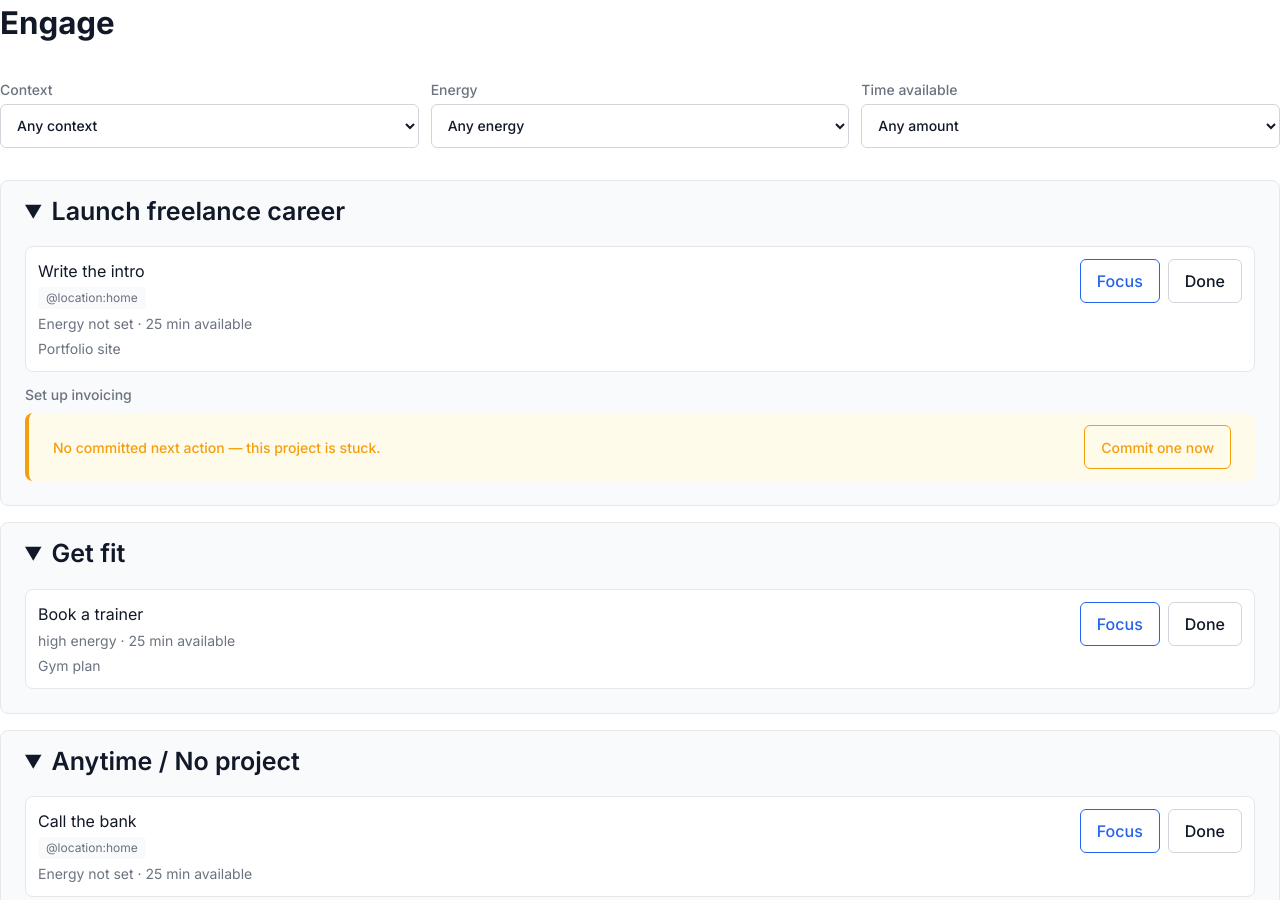
it: EngageBoard › keeps a long next-action list scrollable with its dismissal control reachable
Click the button named "Mark \"Write the intro\" done" at (1205, 281), box [1168,259,1242,303]
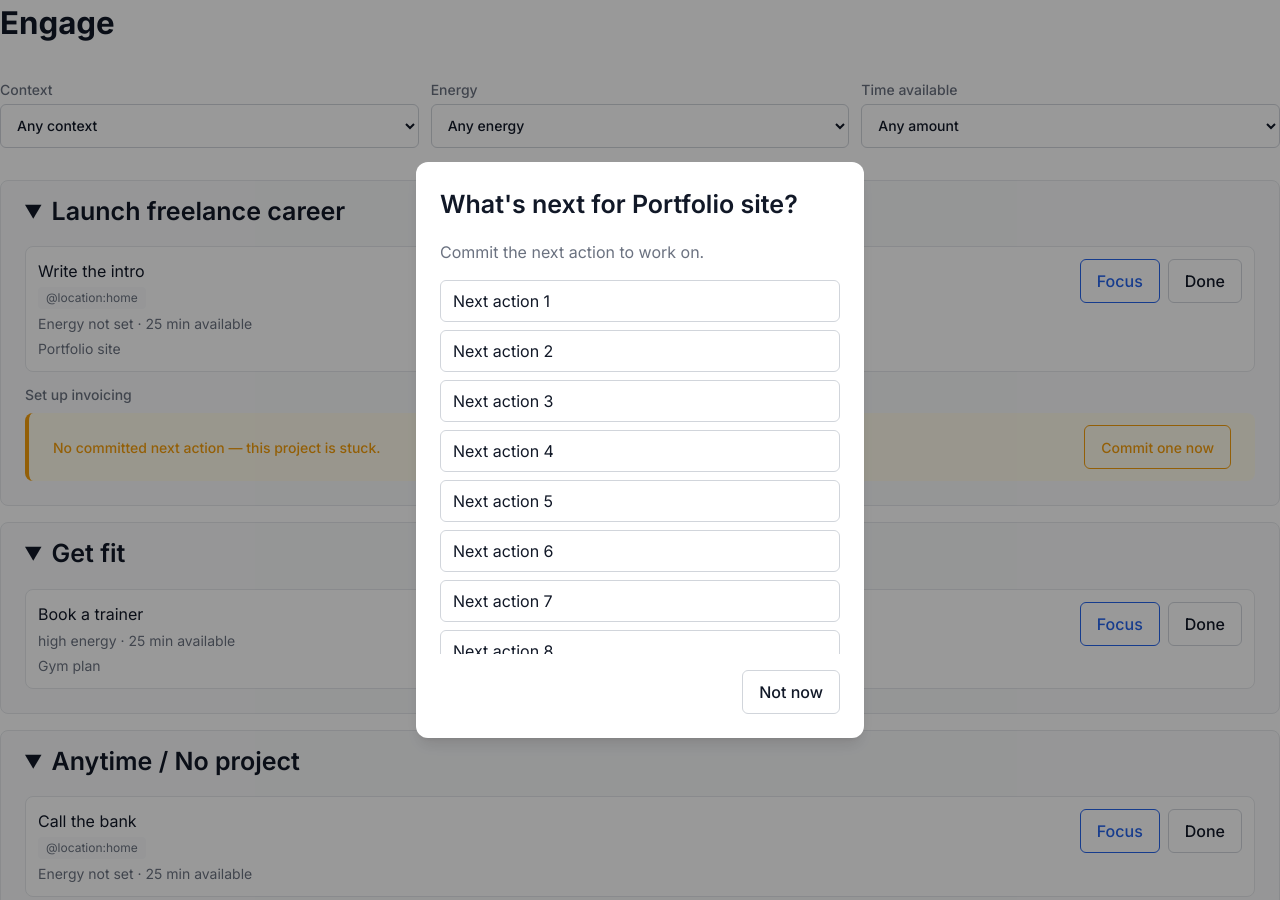
Expected: the button "Not now" is shown
Click the button "Not now" at (791, 692), box [742,670,840,714]
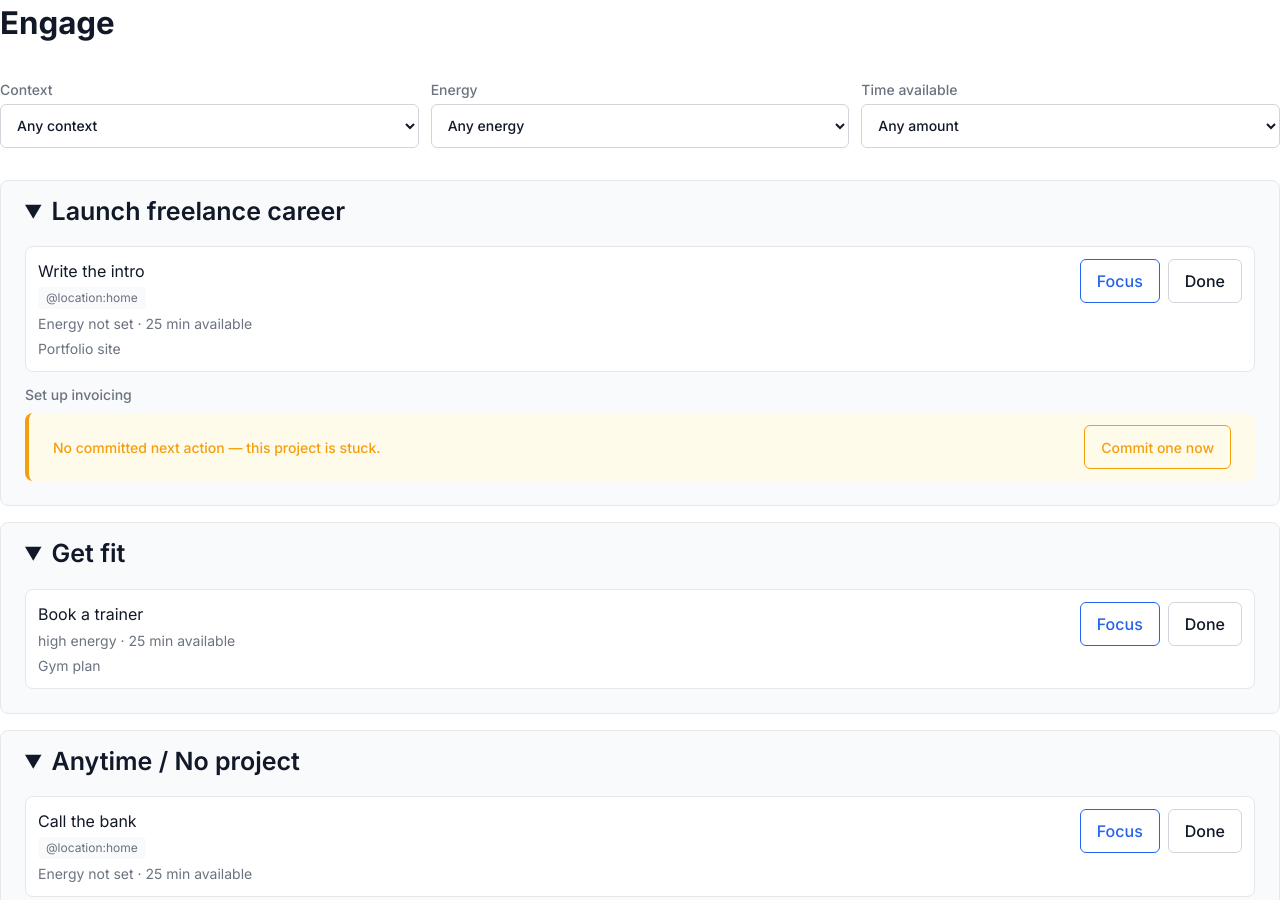
Expected: the dialog is gone
